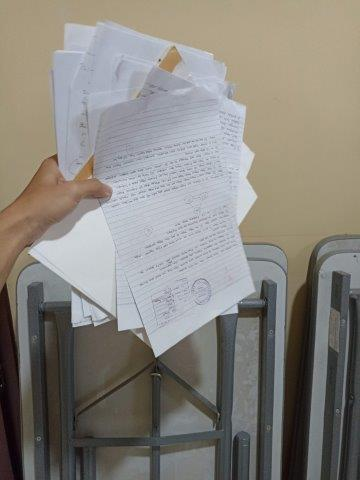kertas: (27, 18, 257, 356)
